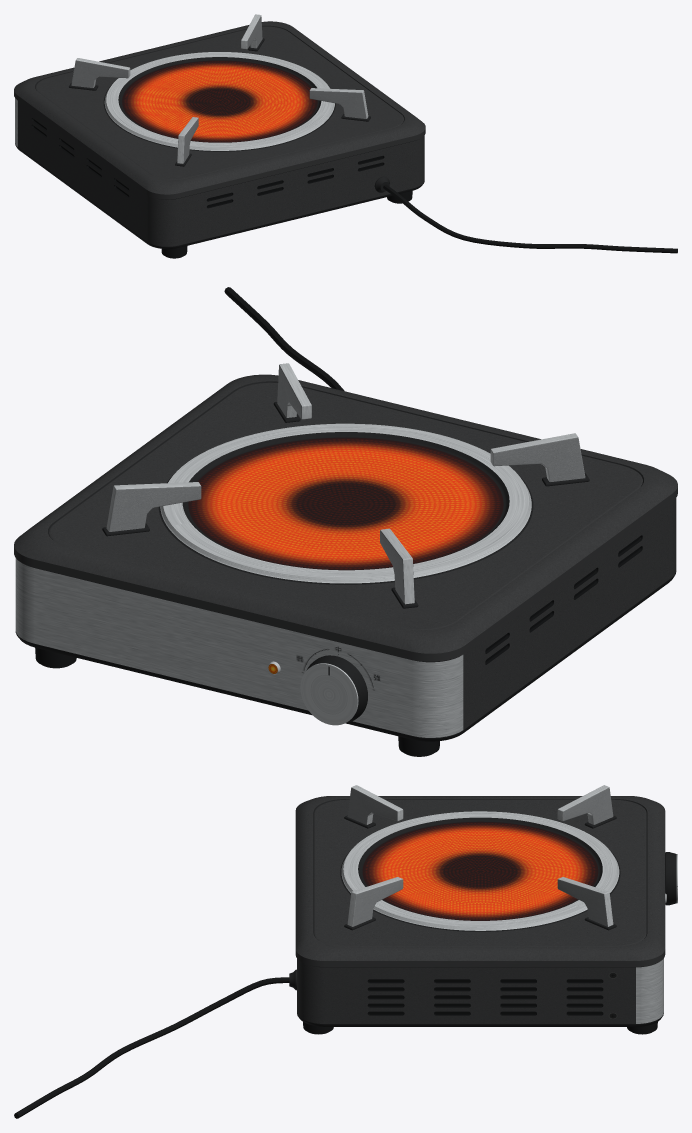
File: ElectricHotPlate.obj
3 renders of one model, top to bottom at view 1: azimuth 30°, elevation 25°; view 2: azimuth 150°, elevation 25°; view 3: azimuth 270°, elevation 25°, orthographic. The views are drawn at different scales.
Parts seen in each view (by area): view 1: ElectricHotPlate1; view 2: ElectricHotPlate1; view 3: ElectricHotPlate1.
Part boxes in pixels (x1,y1,x2,y2): ElectricHotPlate1: [14, 14, 677, 258]; ElectricHotPlate1: [14, 287, 677, 756]; ElectricHotPlate1: [14, 785, 677, 1118].
Bounding box in the file's own units: 0.4424 × 0.1069 × 0.521.
Materials: 1 (1 with a texture image).
